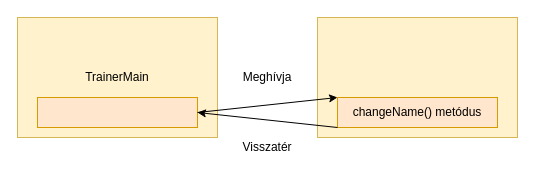
The diagram is 535 pixels wide and 175 high, and some of its shapes have lost their labels. Each missing label, with the box of its shape:
egy Trainer objektum: (316, 16, 518, 138)
main() metódus: (36, 96, 198, 128)
